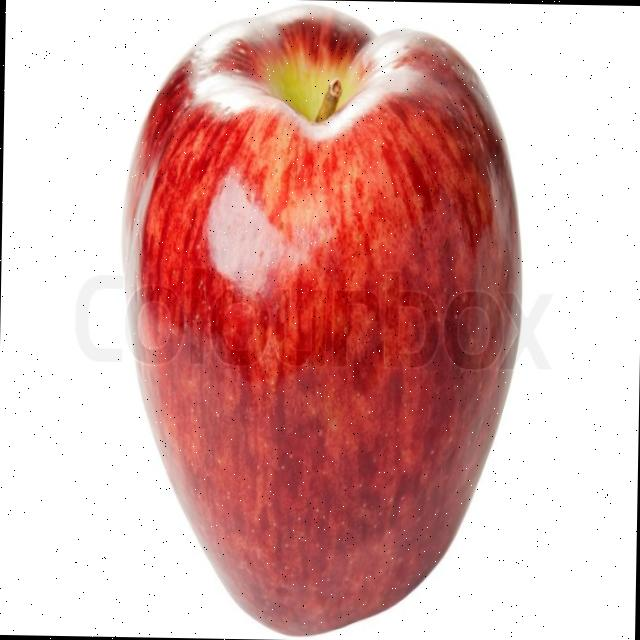Apel: (112, 0, 528, 639)
